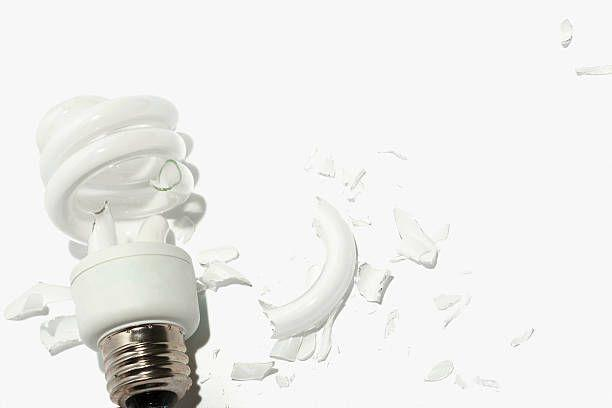light bulb: (33, 89, 210, 408)
